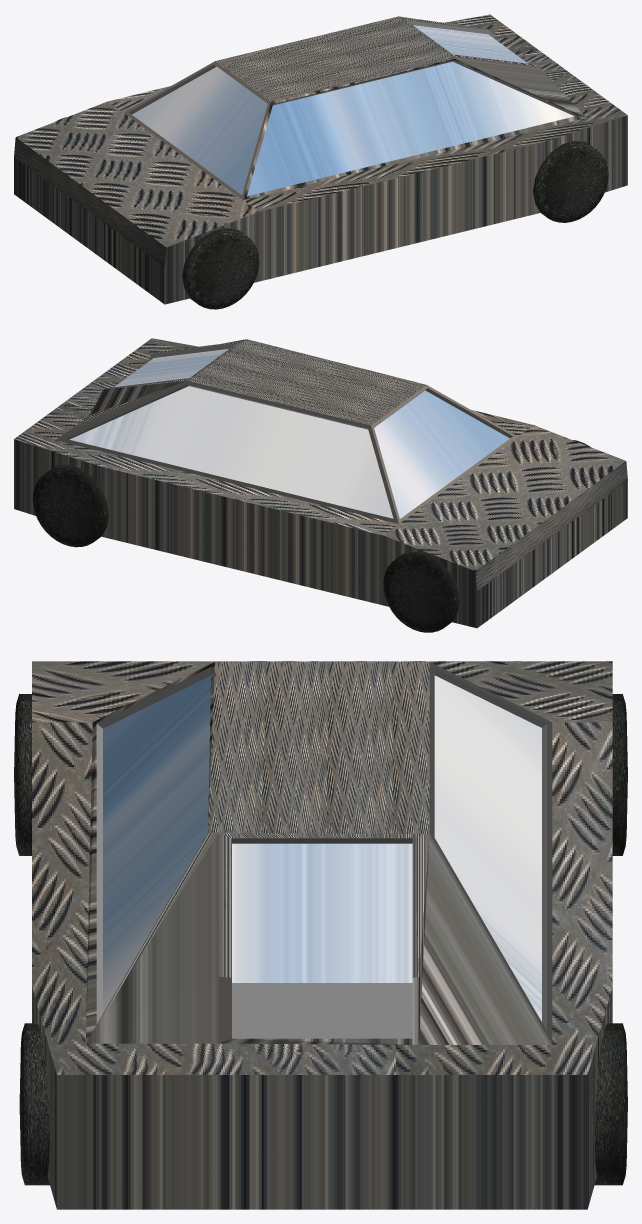
Rendered from car.DAE.
3 renders of one model, top to bottom at view 1: azimuth 30°, elevation 25°; view 2: azimuth 150°, elevation 25°; view 3: azimuth 270°, elevation 25°, orthographic. The views are drawn at different scales.
Parts seen in each view (by area): view 1: Box001, Cylinder006, Cylinder007; view 2: Box001, Cylinder009, Cylinder008; view 3: Box001, Cylinder009, Cylinder007, Cylinder006, Cylinder008.
Part boxes in pixels (box(x1,y1,x2,y2)): Box001: box(14, 14, 627, 304); Cylinder006: box(182, 228, 259, 309); Cylinder007: box(533, 140, 608, 222); Box001: box(14, 338, 627, 628); Cylinder009: box(32, 464, 108, 547); Cylinder008: box(383, 552, 459, 632); Box001: box(32, 661, 612, 1209); Cylinder009: box(594, 1023, 627, 1185); Cylinder007: box(19, 1023, 49, 1185); Cylinder006: box(14, 694, 31, 855); Cylinder008: box(612, 694, 627, 855).
Bounding box in the file's own units: 140 × 82.35 × 41.38.
4 materials, 3 textured.
